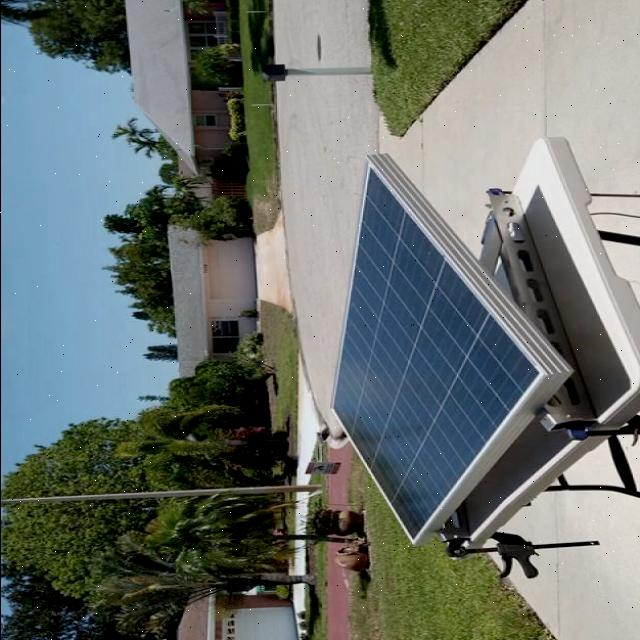Normal Solar Panel: (328, 159, 542, 545)
